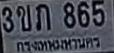3: (1, 6, 13, 32)
5: (91, 0, 104, 26)
6: (77, 0, 89, 26)
8: (63, 1, 75, 27)
A02: (16, 4, 31, 31)
A32: (35, 3, 50, 30)
BKK: (15, 35, 101, 53)
